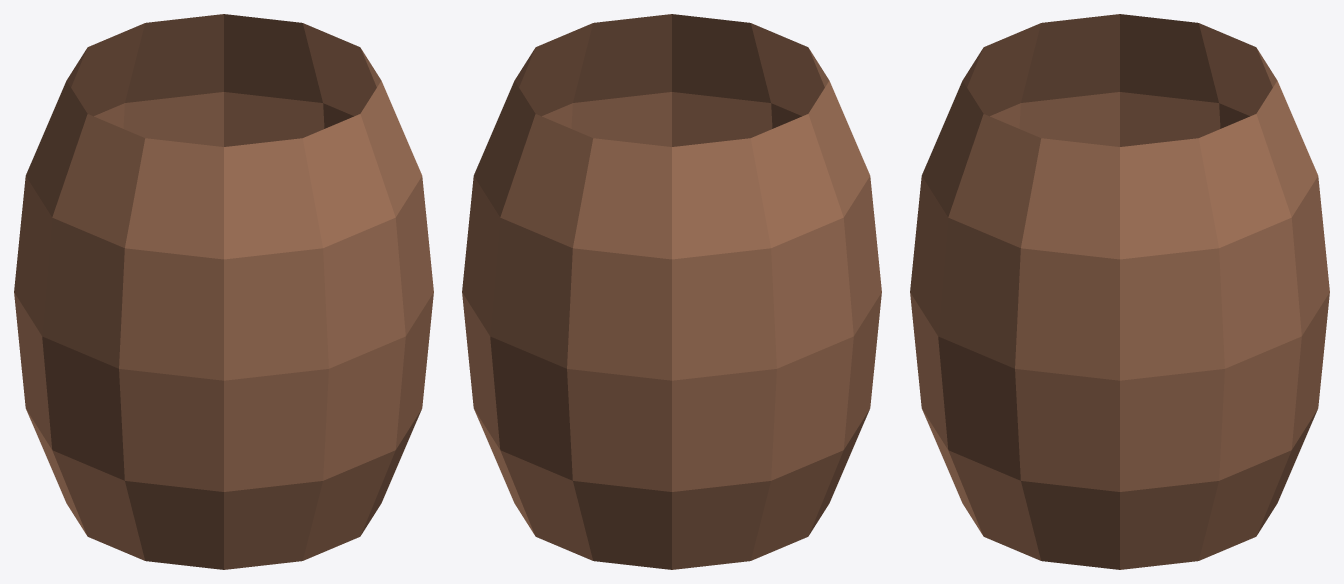
Rendered from barrel.glb.
3 views of the same model, side by side, from view 1: azimuth 30°, elevation 25°; view 2: azimuth 150°, elevation 25°; view 3: azimuth 270°, elevation 25° (orthographic).
Parts seen in each view (by area): view 1: barrel; view 2: barrel; view 3: barrel.
Part boxes in pixels (bbox=[...]): barrel: bbox=[14, 14, 433, 569]; barrel: bbox=[462, 14, 881, 569]; barrel: bbox=[910, 14, 1329, 569].
Size of the model in its own units: 0.72 by 0.8 by 0.72.
